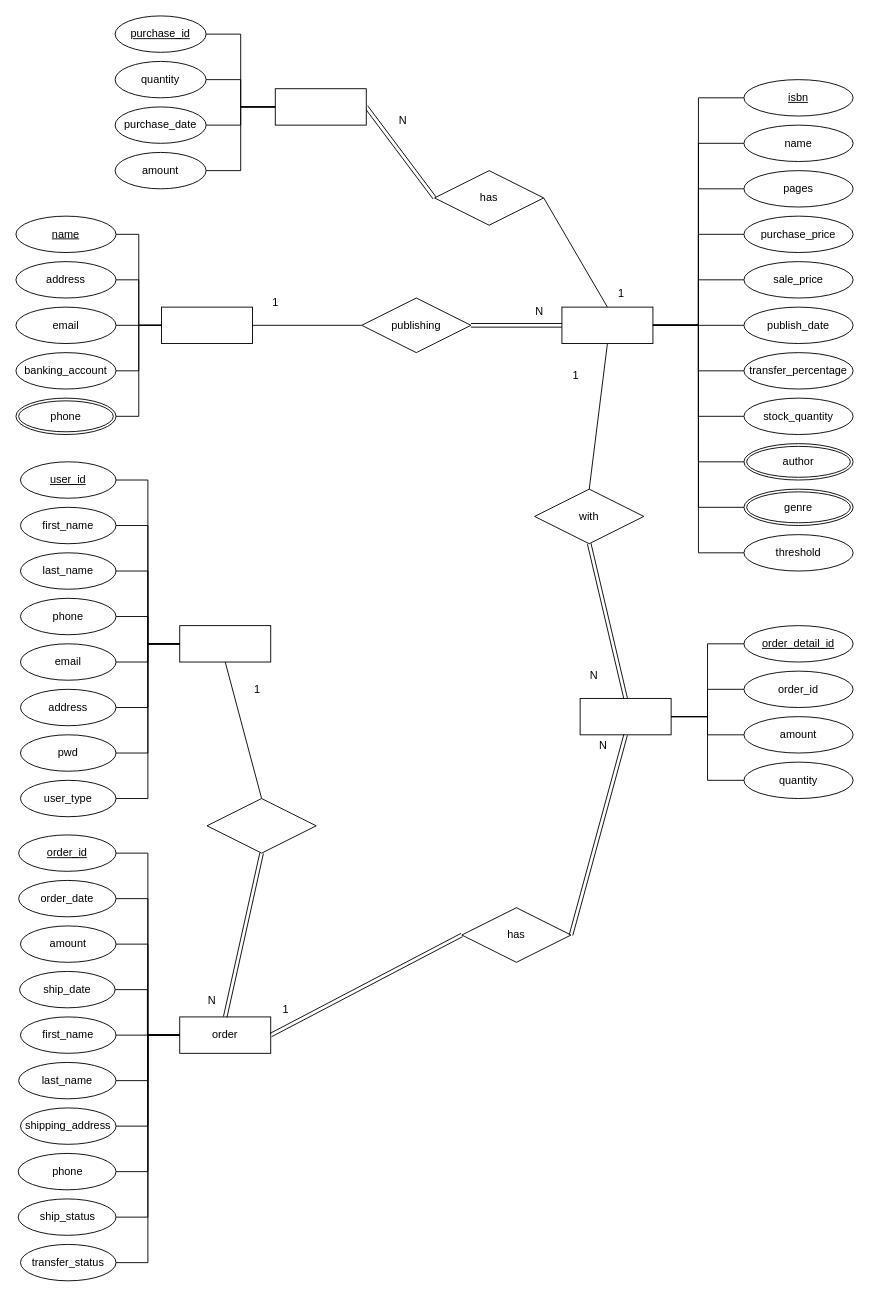
Some shapes in this 869 by 1297 pixel diagram are drawn without their labels. Each missing label, with the box of its shape:
book: (561, 306, 653, 344)
order_detail: (579, 698, 671, 735)
own: (206, 798, 316, 853)
publisher: (161, 306, 253, 344)
purchase_order: (274, 88, 366, 125)
user: (179, 625, 271, 662)
